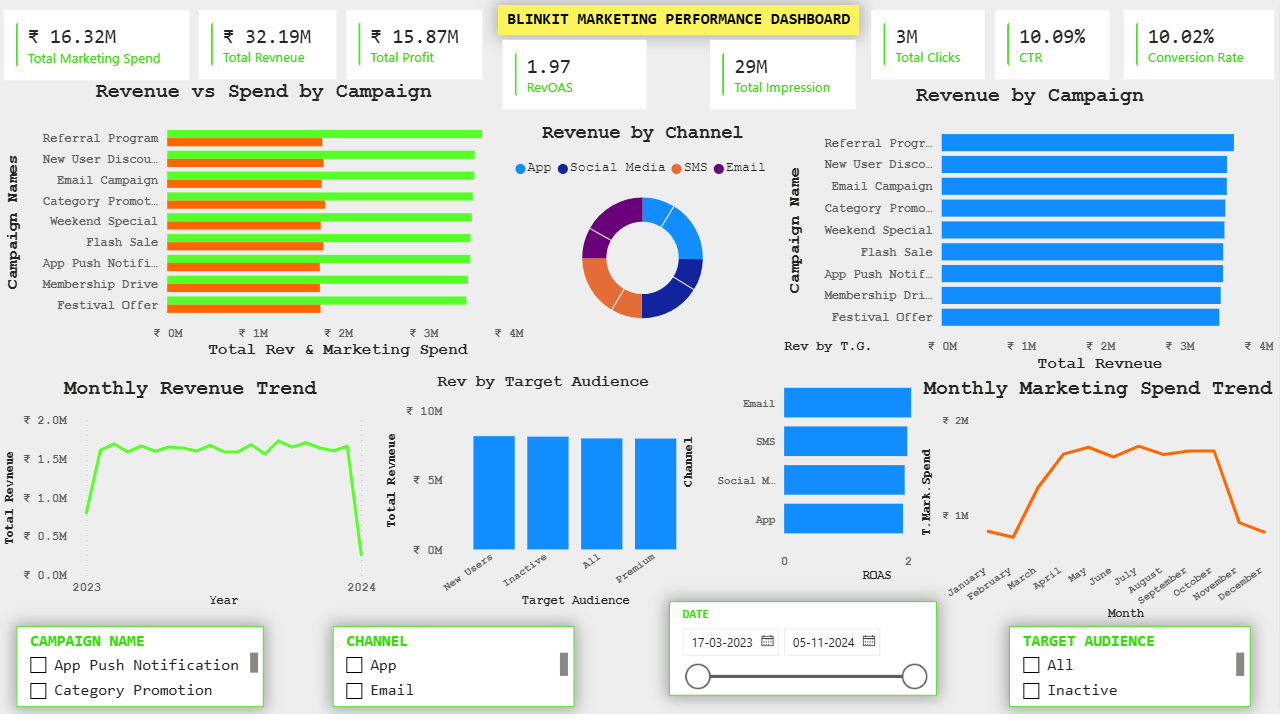

What the dashboard file says about the page in this screenshot:
{"tool":"powerbi","page":{"name":"Dashboard","canvas":[2180,1500],"ordinal":1},"visuals":[{"type":"clusteredBarChart","title":"Revenue vs Spend by Campaign","fields":{"Category":["Marketing_Performance.campaign_name"],"Y":["Marketing_Performance.Total Revneue","Marketing_Performance.Total Marketing Spend"]},"box":[23.3,476.7,761.7,448.3],"z":0},{"type":"clusteredBarChart","title":"Revenue by Campaign","fields":{"Category":["Marketing_Performance.campaign_name"],"Y":["Marketing_Performance.Total Revneue"]},"box":[24,44,608,378],"z":1000},{"type":"clusteredColumnChart","title":"Rev by Target Audience","fields":{"Category":["Marketing_Performance.target_audience"],"Y":["Marketing_Performance.Total Revneue"]},"box":[1250,44,538,378],"z":2000},{"type":"donutChart","title":"Revenue by Channel","fields":{"Category":["Marketing_Performance.channel"],"Y":["Marketing_Performance.Total Marketing Spend","Marketing_Performance.Total Revneue"]},"box":[674,44,538,380],"z":3000},{"type":"lineChart","title":"Monthly Revenue Trend","fields":{"Y":["Marketing_Performance.Total Revneue"],"Category":["Marketing_Performance.date.Variation.Date Hierarchy.Year","Marketing_Performance.date.Variation.Date Hierarchy.Month"]},"box":[828,492,642,418],"z":4000},{"type":"lineChart","title":"Monthly Marketing Spend Trend","fields":{"Y":["Marketing_Performance.Total Marketing Spend"],"Category":["Marketing_Performance.date.Variation.Date Hierarchy.Month"]},"box":[1508,492,642,418],"z":5000},{"type":"clusteredBarChart","title":"Rev by T.G.","fields":{"Category":["Marketing_Performance.channel"],"Y":["Marketing_Performance.Return On Ads Spend"]},"box":[24,952,538,346],"z":6000},{"type":"cardVisual","fields":{"Data":["Marketing_Performance.Total Marketing Spend"]},"box":[588,966,294,160],"z":7000},{"type":"cardVisual","fields":{"Data":["Marketing_Performance.Total Revneue"]},"box":[588.6,1138.6,294.3,158.6],"z":8000},{"type":"cardVisual","fields":{"Data":["Marketing_Performance.Total Profit"]},"box":[900,966.7,295,160],"z":9000},{"type":"cardVisual","fields":{"Data":["Marketing_Performance.Return On Ads Spend"]},"box":[900,1138,293.3,160],"z":10000},{"type":"cardVisual","fields":{"Data":["Marketing_Performance.Total Impression"]},"box":[1211.7,966.7,295,160],"z":11000},{"type":"cardVisual","fields":{"Data":["Marketing_Performance.Total Clicks"]},"box":[1211.7,1138.3,295,156.7],"z":12000},{"type":"cardVisual","fields":{"Data":["Marketing_Performance.CTR"]},"box":[1518.6,968.6,294.3,158.6],"z":13000},{"type":"cardVisual","fields":{"Data":["Marketing_Performance.Conversion Rate"]},"box":[1518.6,1138.6,294.3,157.1],"z":14000},{"type":"image","box":[1802,44,362,378],"z":15000},{"type":"slicer","fields":{"Values":["Marketing_Performance.campaign_name"]},"box":[1828,952,322,346],"z":16000},{"type":"slicer","fields":{"Values":["Marketing_Performance.date"]},"box":[67.5,1307.5,607.1,180],"z":17000},{"type":"slicer","fields":{"Values":["Marketing_Performance.channel"]},"box":[827.5,1307.5,607.1,180],"z":17001},{"type":"slicer","fields":{"Values":["Marketing_Performance.target_audience"]},"box":[1522.5,1307.5,607.5,180],"z":17002}]}

Visuals, with their boxes on the page's 2180x1500 design canvas (x1, y1, x2, y2). These are canvas units, not pixel positions in the 1280x714 screenshot, which may show the page scaled, cropped or inside an application window:
"Revenue vs Spend by Campaign" clusteredBarChart: 23:477:785:925
"Revenue by Campaign" clusteredBarChart: 24:44:632:422
"Rev by Target Audience" clusteredColumnChart: 1250:44:1788:422
"Revenue by Channel" donutChart: 674:44:1212:424
"Monthly Revenue Trend" lineChart: 828:492:1470:910
"Monthly Marketing Spend Trend" lineChart: 1508:492:2150:910
"Rev by T.G." clusteredBarChart: 24:952:562:1298
cardVisual - Marketing_Performance.Total Marketing Spend: 588:966:882:1126
cardVisual - Marketing_Performance.Total Revneue: 589:1139:883:1297
cardVisual - Marketing_Performance.Total Profit: 900:967:1195:1127
cardVisual - Marketing_Performance.Return On Ads Spend: 900:1138:1193:1298
cardVisual - Marketing_Performance.Total Impression: 1212:967:1507:1127
cardVisual - Marketing_Performance.Total Clicks: 1212:1138:1507:1295
cardVisual - Marketing_Performance.CTR: 1519:969:1813:1127
cardVisual - Marketing_Performance.Conversion Rate: 1519:1139:1813:1296
image: 1802:44:2164:422
slicer - Marketing_Performance.campaign_name: 1828:952:2150:1298
slicer - Marketing_Performance.date: 68:1308:675:1488
slicer - Marketing_Performance.channel: 828:1308:1435:1488
slicer - Marketing_Performance.target_audience: 1522:1308:2130:1488
